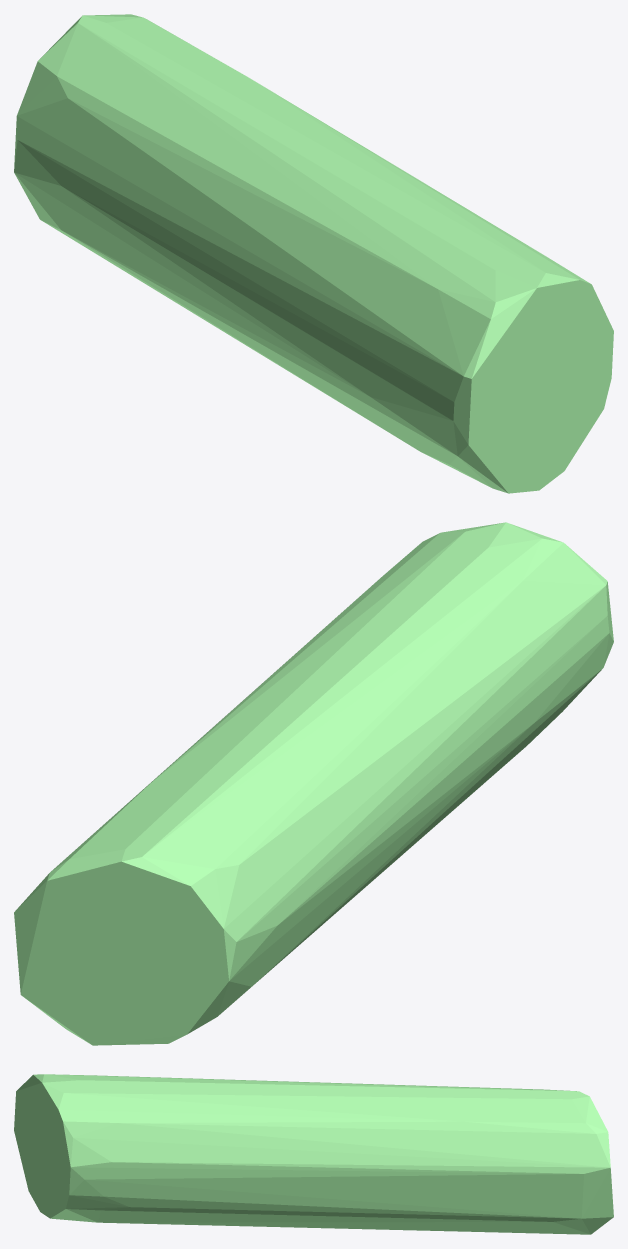
The model's file is dvkr_robot_L_link5_respondable_coll_3.dae.
3 renders of one model, top to bottom at view 1: azimuth 30°, elevation 25°; view 2: azimuth 150°, elevation 25°; view 3: azimuth 270°, elevation 25°, orthographic. The views are drawn at different scales.
Visible parts, largest first — view 1: Node_0000023514CDA960; view 2: Node_0000023514CDA960; view 3: Node_0000023514CDA960.
Boxes of the visible parts, <box> form: Node_0000023514CDA960: <box>14,14,613,493</box>; Node_0000023514CDA960: <box>14,522,613,1045</box>; Node_0000023514CDA960: <box>14,1074,613,1234</box>.
Size of the model in its own units: 0.0743 by 0.0746 by 0.2764.
